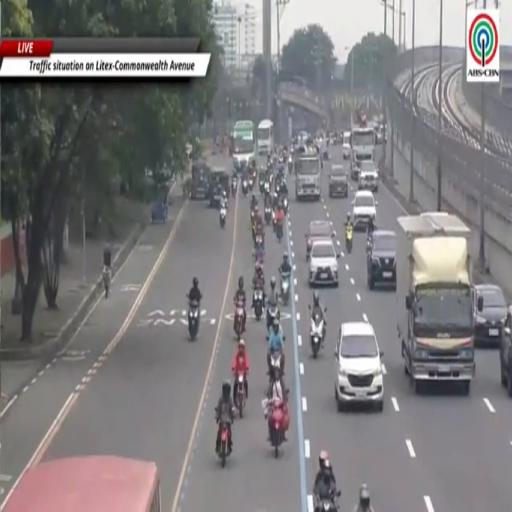bus: (3, 456, 161, 511), (351, 126, 375, 179), (258, 120, 273, 154), (233, 121, 254, 141)
car: (336, 322, 383, 411), (473, 283, 507, 346), (367, 230, 396, 290), (309, 238, 339, 286), (306, 220, 333, 261), (352, 190, 377, 230), (500, 307, 511, 397), (358, 160, 378, 191), (329, 165, 348, 197), (342, 131, 351, 160)
motorcycle: (270, 399, 285, 458), (310, 313, 325, 358), (218, 422, 230, 467), (316, 491, 341, 511), (235, 373, 245, 418), (188, 301, 199, 340), (234, 301, 244, 341), (270, 350, 282, 381), (281, 272, 290, 306), (254, 288, 263, 321), (267, 306, 279, 330), (103, 266, 110, 298), (345, 227, 353, 253), (258, 174, 266, 195), (264, 206, 272, 225), (220, 206, 226, 228), (276, 221, 282, 242), (231, 178, 237, 197), (242, 179, 248, 197), (255, 234, 263, 246), (264, 179, 270, 194), (283, 197, 288, 215), (248, 175, 254, 190), (275, 180, 281, 194), (288, 157, 293, 173), (251, 208, 255, 225), (272, 210, 275, 231)
truck: (396, 214, 482, 394), (351, 123, 375, 180), (295, 149, 320, 201), (230, 120, 254, 169)
